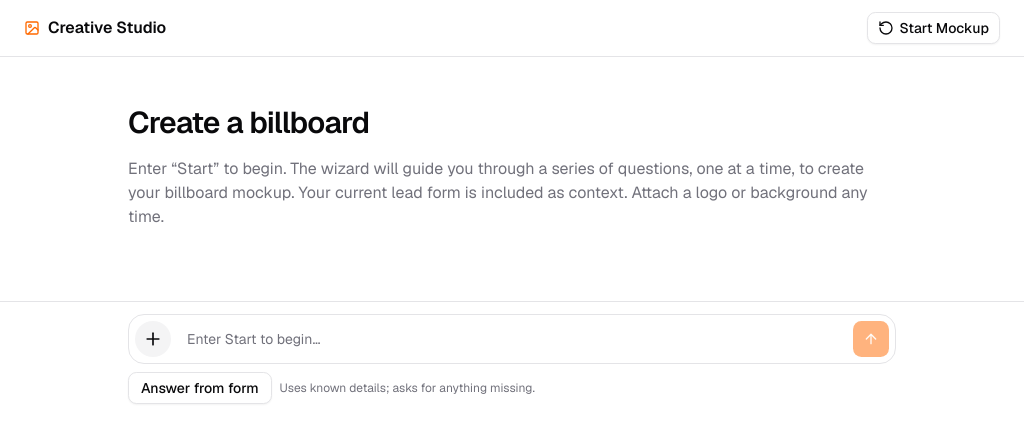
Scenario: waits for an explicit Start across two views and remounts
Click the button "Start Mockup". click: (933, 28)
box: [866, 12, 1000, 44]
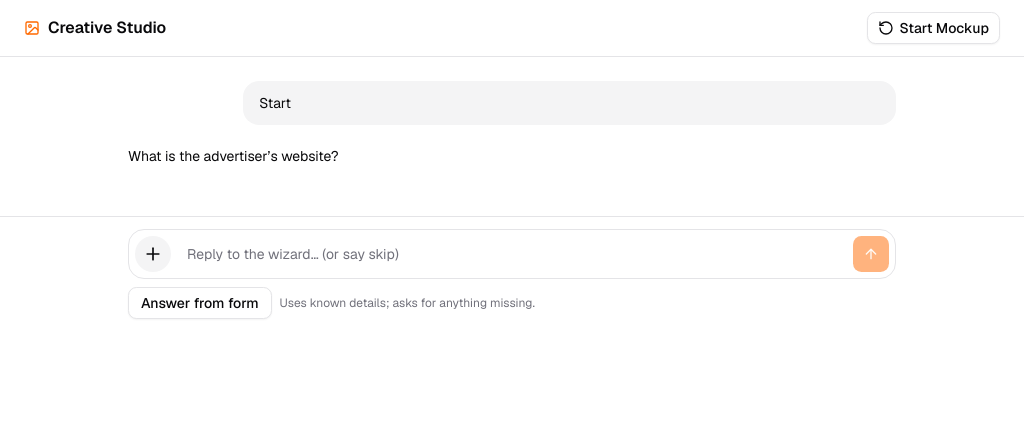
expect the element showing "Start What is the advertiser’s website?" is shown: met, box [128, 81, 896, 168]
